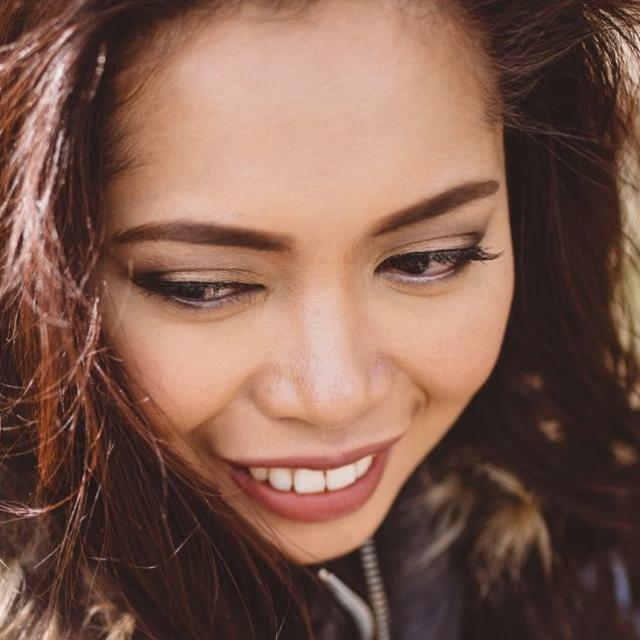Normal: (87, 3, 520, 575)
